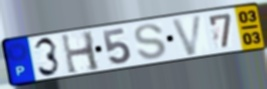3: (32, 36, 64, 78)
5: (101, 26, 133, 66)
7: (207, 12, 234, 50)
H: (59, 29, 102, 76)
S: (132, 23, 168, 61)
V: (169, 13, 205, 58)
